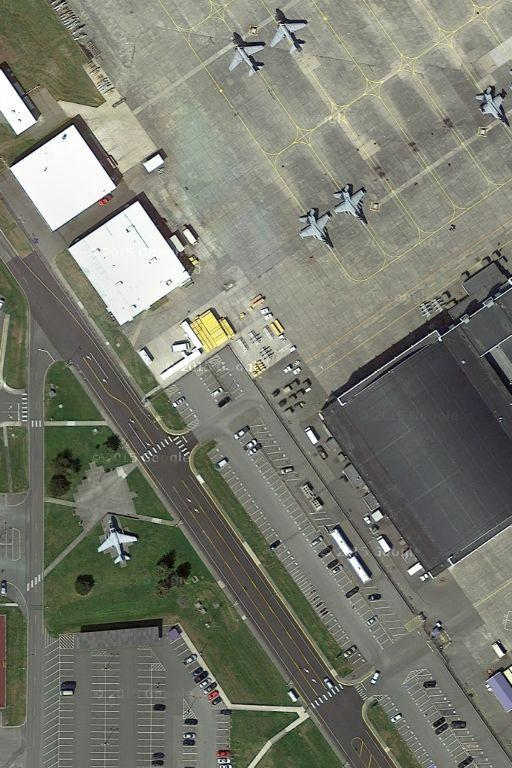F/A-18: (294, 204, 336, 252), (328, 181, 370, 226), (474, 83, 509, 130)
plane: (268, 7, 310, 60), (226, 28, 267, 80)
